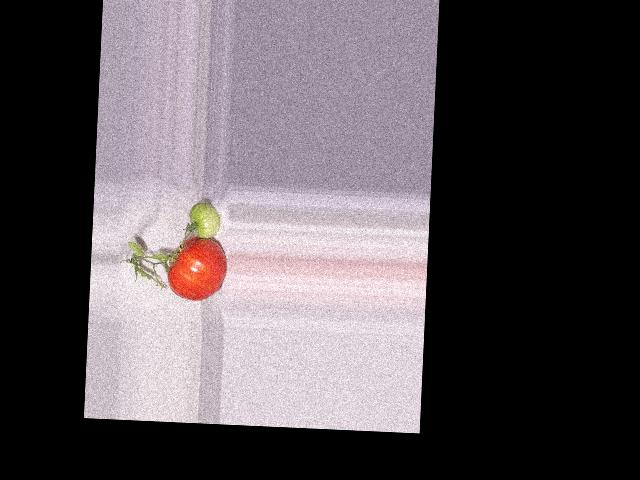tomato: (166, 235, 227, 302)
